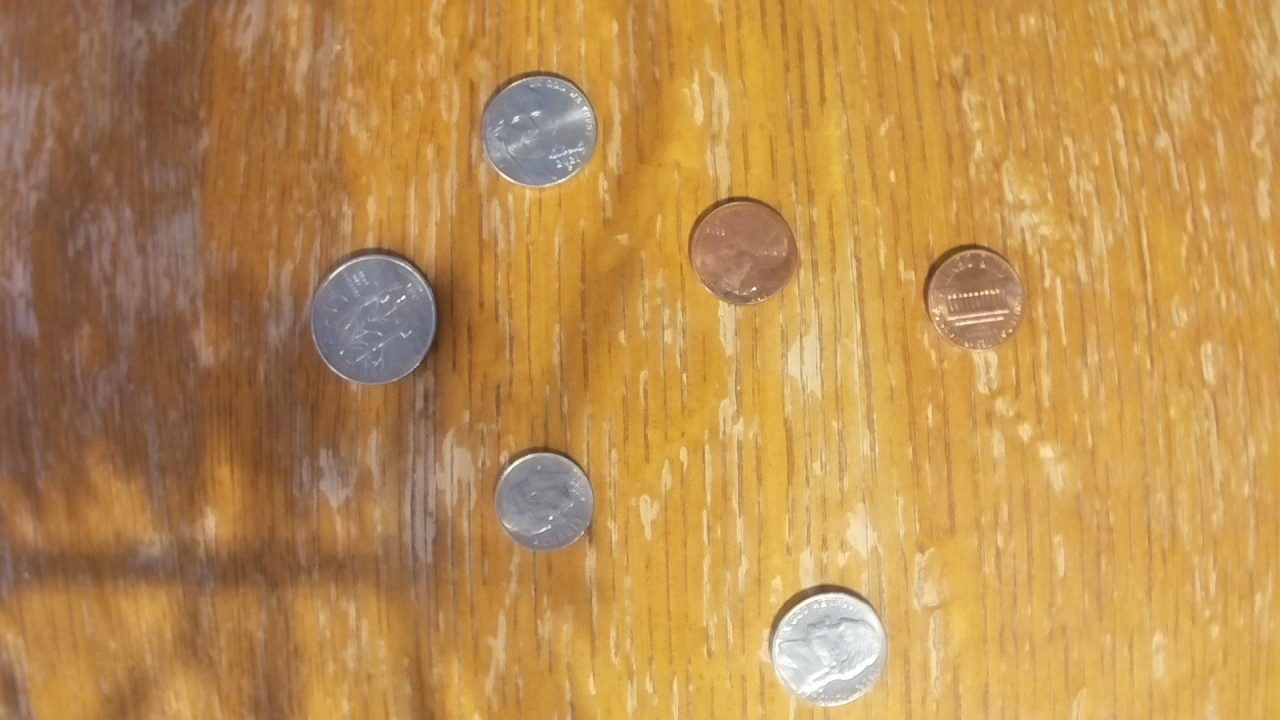dime: (495, 449, 594, 554)
nickel: (767, 592, 887, 709), (480, 72, 597, 188)
penny: (688, 198, 797, 308), (924, 247, 1026, 352)
quarter: (309, 254, 438, 386)
